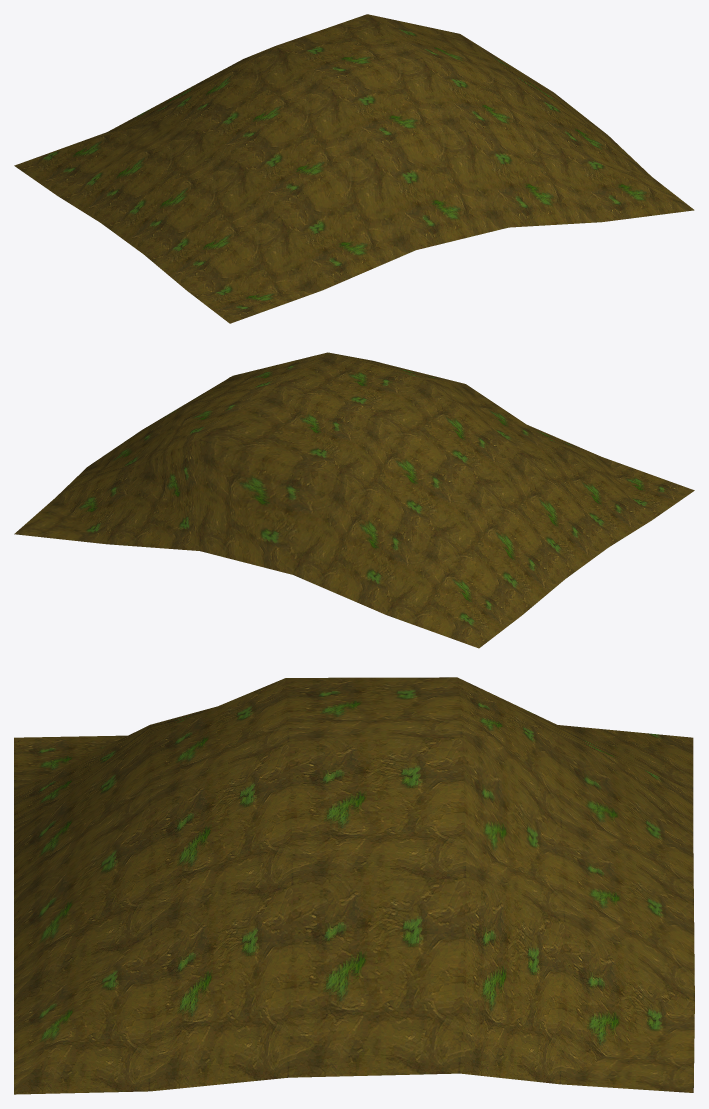
Rendered from MIRKWOOD_AREA4_BARRIERC.fbx.
3 renders of one model, top to bottom at view 1: azimuth 30°, elevation 25°; view 2: azimuth 150°, elevation 25°; view 3: azimuth 270°, elevation 25°, orthographic. The views are drawn at different scales.
Visible parts, largest first — view 1: MIRKWOOD_AREA4_BARRIERC; view 2: MIRKWOOD_AREA4_BARRIERC; view 3: MIRKWOOD_AREA4_BARRIERC.
Part boxes in pixels (bbox=[...]): MIRKWOOD_AREA4_BARRIERC: bbox=[14, 14, 694, 323]; MIRKWOOD_AREA4_BARRIERC: bbox=[14, 352, 694, 648]; MIRKWOOD_AREA4_BARRIERC: bbox=[14, 677, 694, 1094].
Bounding box in the file's own units: 513781 × 144280 × 413558.
1 material, 1 textured.
